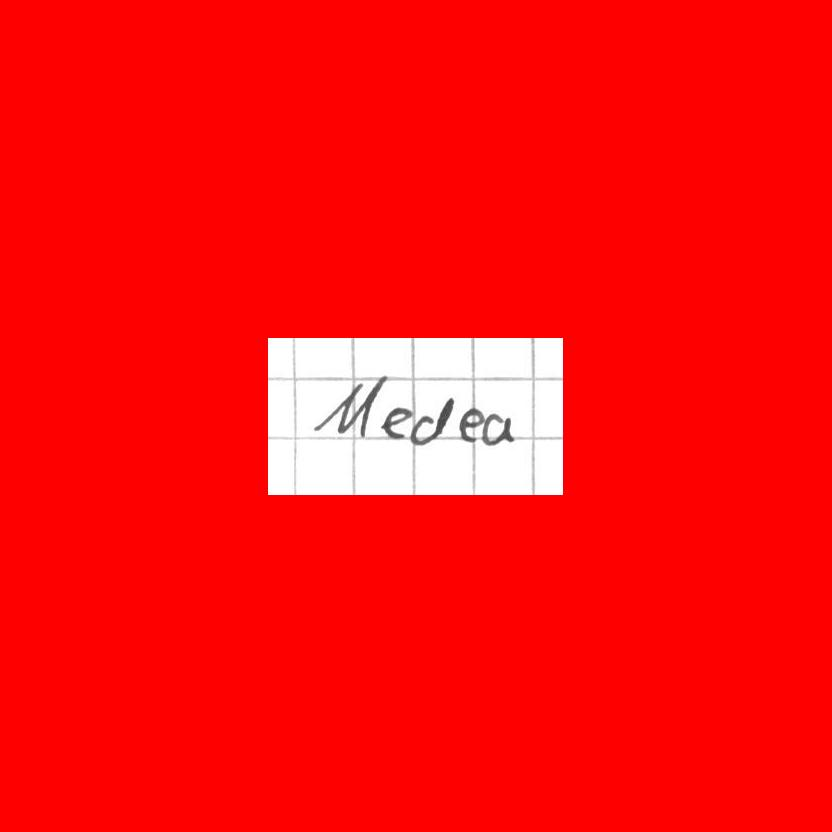Char: (312, 369, 386, 446), (409, 395, 458, 446), (481, 410, 519, 448), (377, 402, 414, 441), (457, 404, 483, 443)
